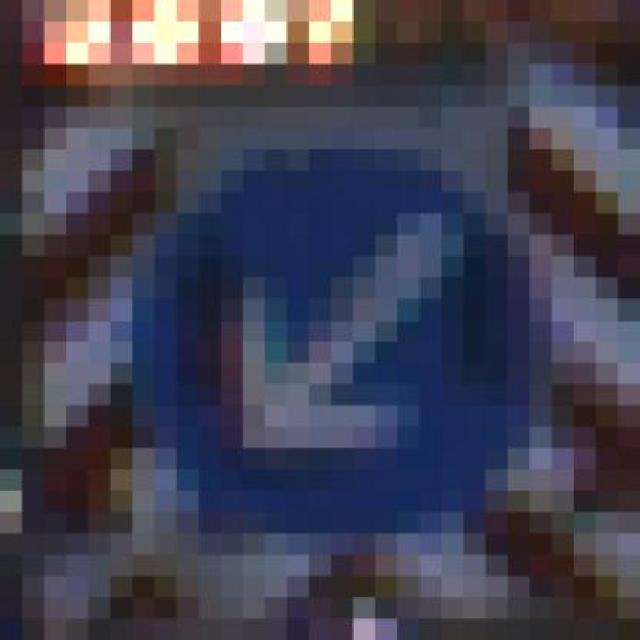Keep-Left: (110, 128, 552, 555)
